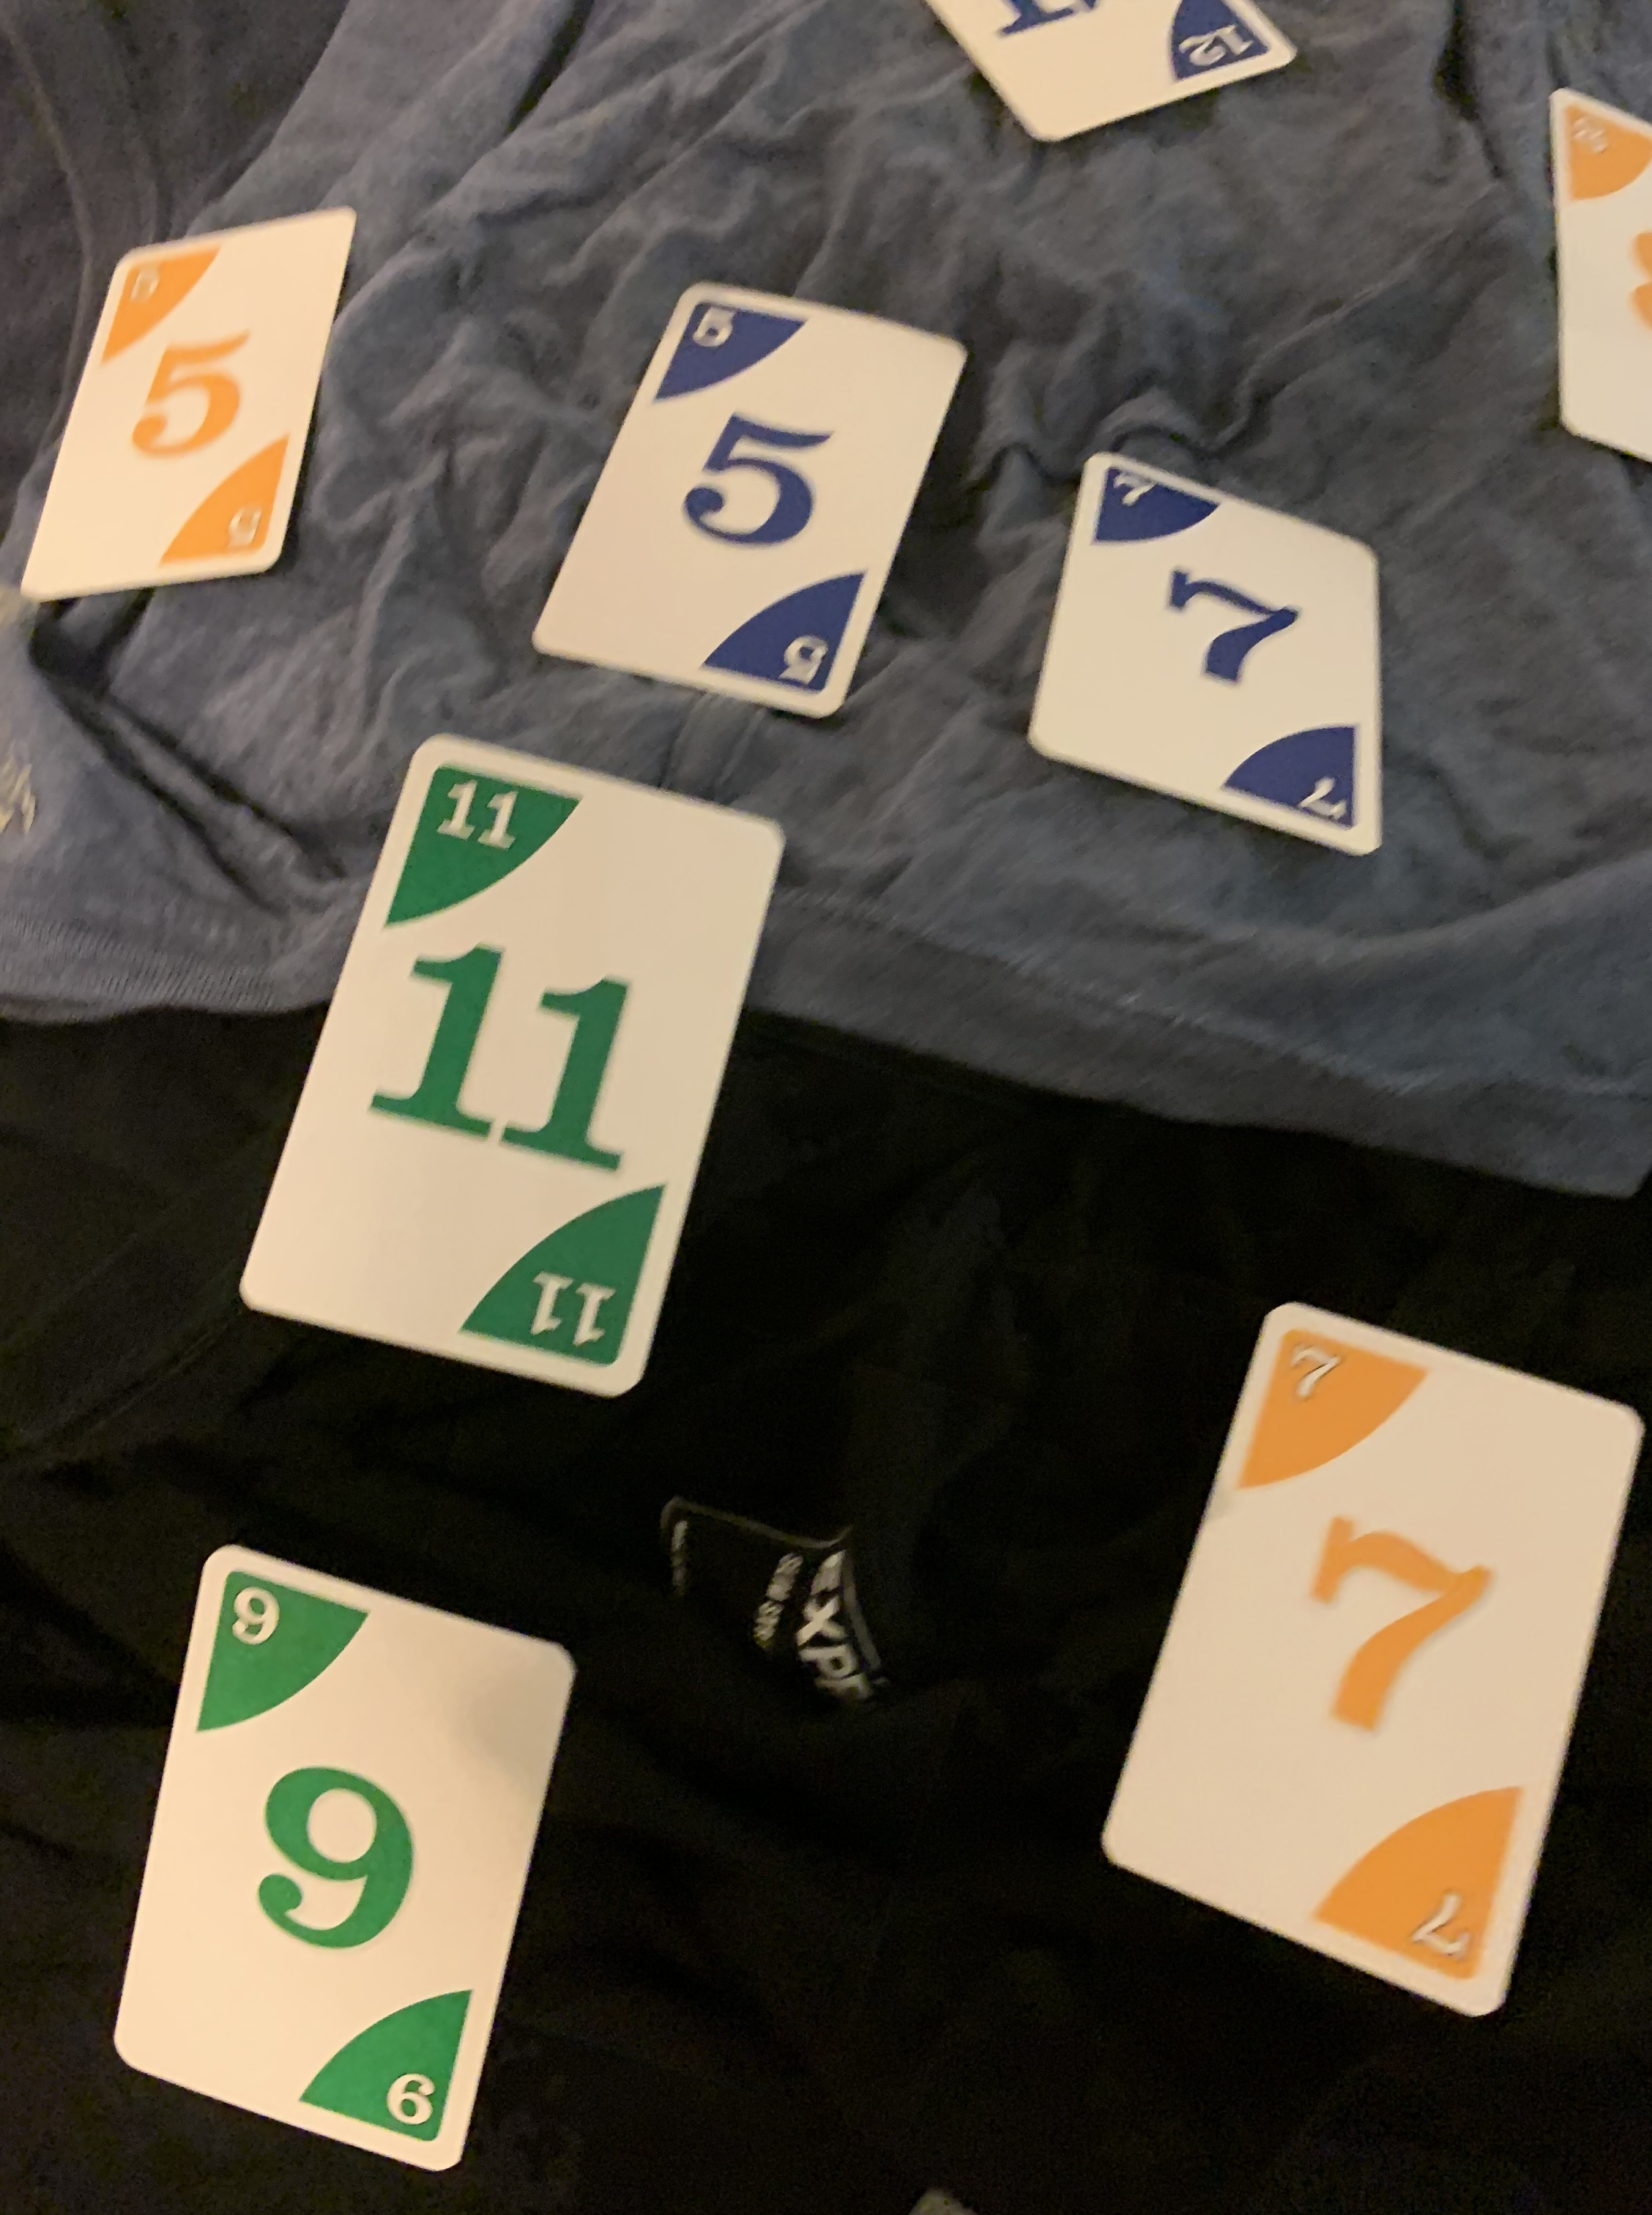eleven: (239, 734, 777, 1406)
five: (529, 273, 973, 726), (29, 224, 357, 578)
nine: (118, 1541, 571, 2170)
seven: (1074, 1307, 1652, 2022), (1015, 451, 1383, 856)
